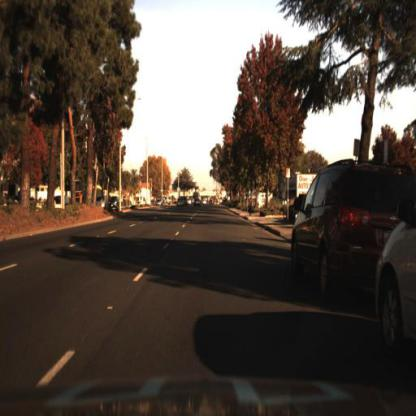car: (292, 159, 416, 303), (51, 193, 71, 211), (106, 194, 120, 214), (96, 192, 111, 209), (176, 196, 189, 212), (192, 196, 203, 214), (111, 195, 122, 211), (154, 195, 164, 212), (247, 195, 254, 218)
pedestrian: (248, 198, 256, 219)
